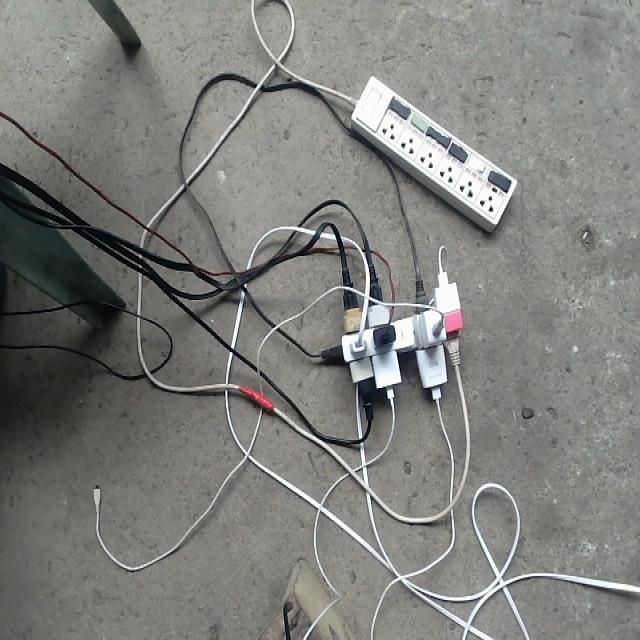-: (328, 269, 464, 400)
